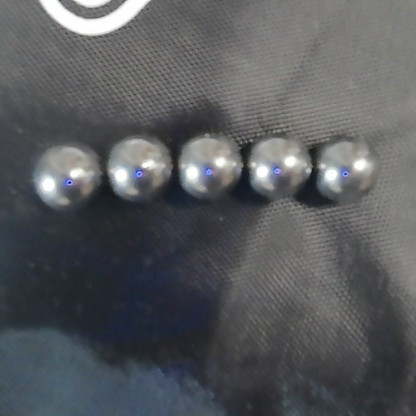ironball: (30, 141, 104, 207), (107, 132, 172, 203), (247, 133, 311, 197), (317, 133, 381, 197), (179, 135, 241, 199)
